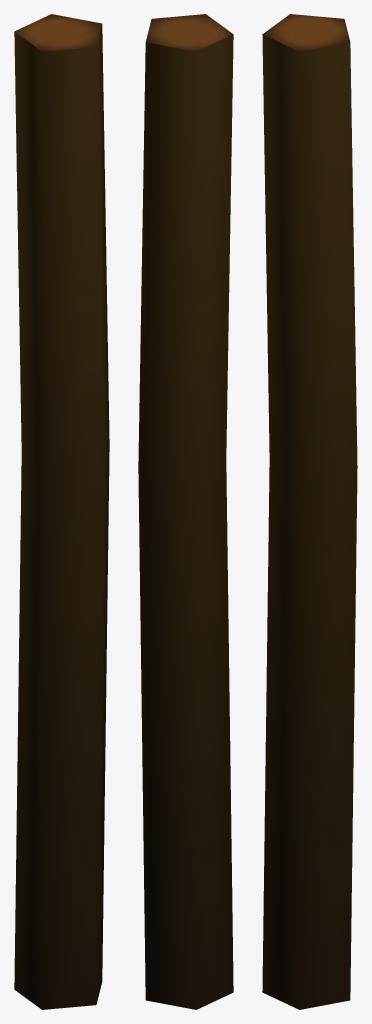
The model's file is Stick_B.fbx.
3 renders of one model, left to right at view 1: azimuth 30°, elevation 25°; view 2: azimuth 210°, elevation 25°; view 3: azimuth 330°, elevation 25°, orthographic.
Parts seen in each view (by area): view 1: Stick_B; view 2: Stick_B; view 3: Stick_B.
Boxes of the visible parts, <box> form: Stick_B: <box>14,14,109,1009</box>; Stick_B: <box>138,14,233,1009</box>; Stick_B: <box>262,14,357,1009</box>.
Size of the model in its own units: 8.62 by 8.27 by 97.13.
Materials: 1 (1 with a texture image).
